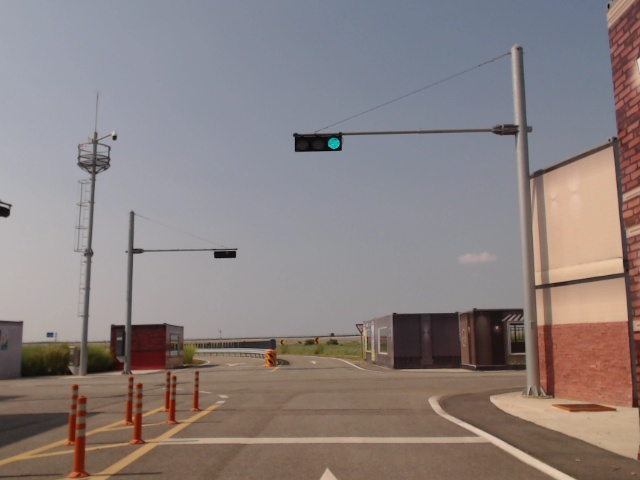green_3: (295, 135, 343, 152)
